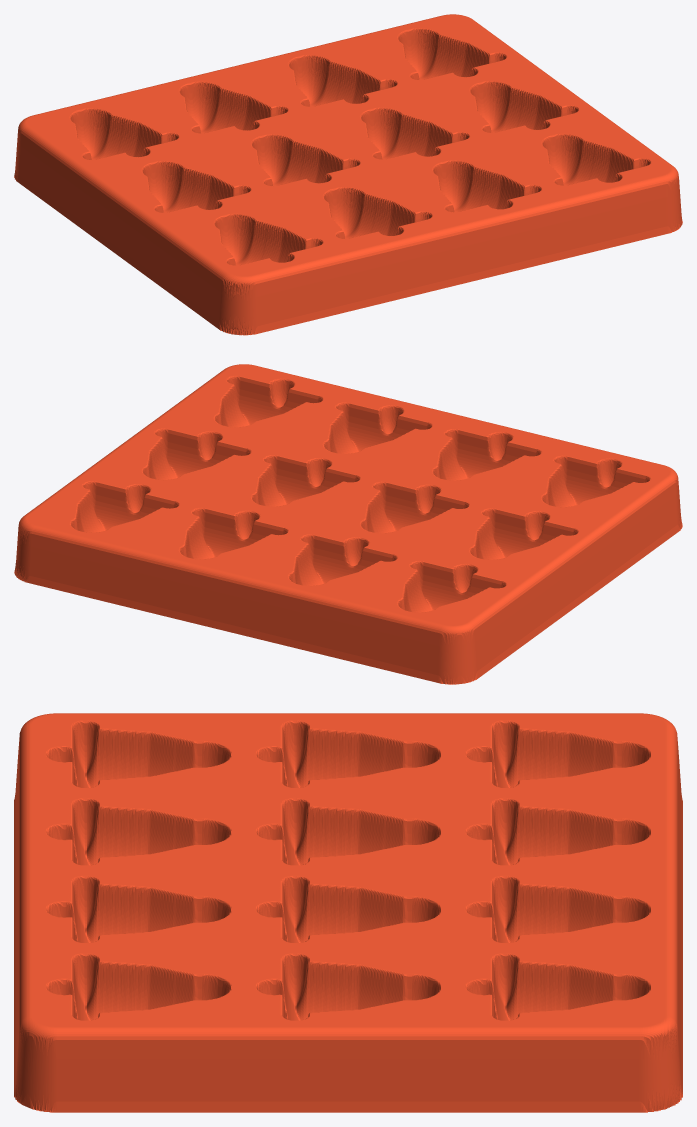
Rendered from mold.glb.
3 views of the same model, one above another, from view 1: azimuth 30°, elevation 25°; view 2: azimuth 150°, elevation 25°; view 3: azimuth 270°, elevation 25° (orthographic). The views are drawn at different scales.
Visible parts, largest first — view 1: geometry_0; view 2: geometry_0; view 3: geometry_0.
Boxes of the visible parts, x1,y1,x2,y2 form: geometry_0: [14, 14, 682, 335]; geometry_0: [14, 364, 682, 684]; geometry_0: [14, 713, 682, 1112].
Bounding box in the file's own units: 0.1631 × 0.0182 × 0.141.
